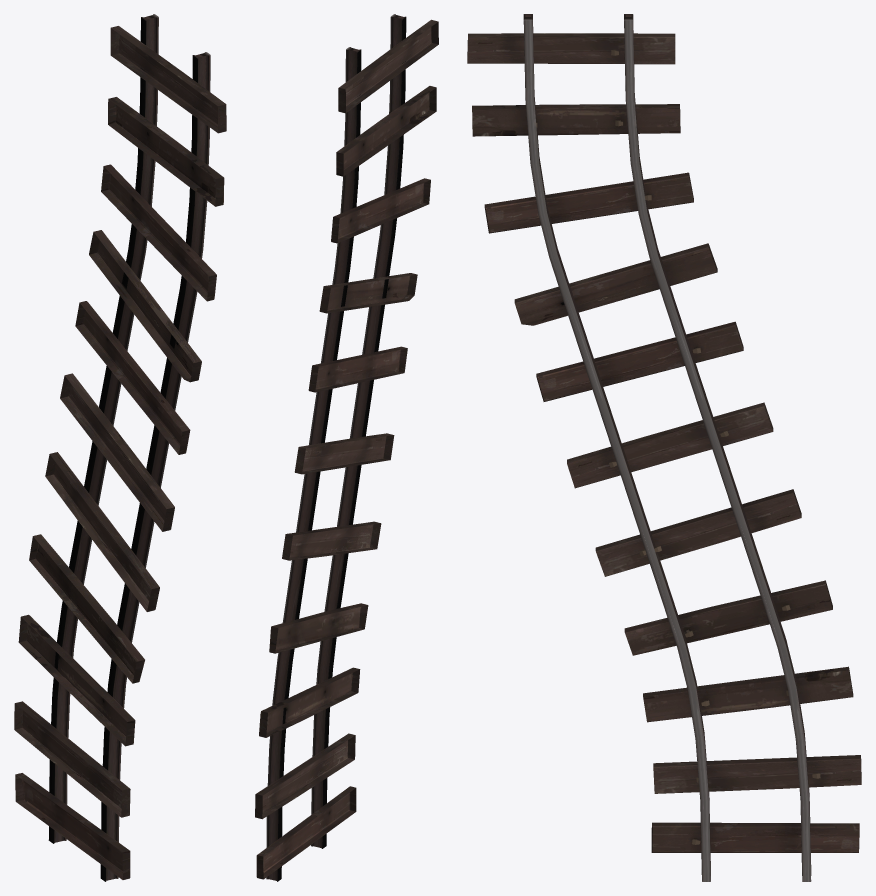
Rendered from props_mining_track_s_curve_48_mirrored.glb.
The picture shows the model from 3 angles, left to right: view 1: azimuth 30°, elevation 25°; view 2: azimuth 150°, elevation 25°; view 3: azimuth 270°, elevation 25°; orthographic projection. The views are drawn at different scales.
Visible parts, largest first — view 1: models/props_mining/track_s_curve_48_mirrored; view 2: models/props_mining/track_s_curve_48_mirrored; view 3: models/props_mining/track_s_curve_48_mirrored.
Boxes of the visible parts, x1=… form: models/props_mining/track_s_curve_48_mirrored: x1=14, y1=14, x2=226, y2=881; models/props_mining/track_s_curve_48_mirrored: x1=255, y1=14, x2=438, y2=881; models/props_mining/track_s_curve_48_mirrored: x1=467, y1=14, x2=861, y2=881.
Bounding box in the file's own units: 6.69 × 256 × 106.
Materials: 1 (1 with a texture image).
